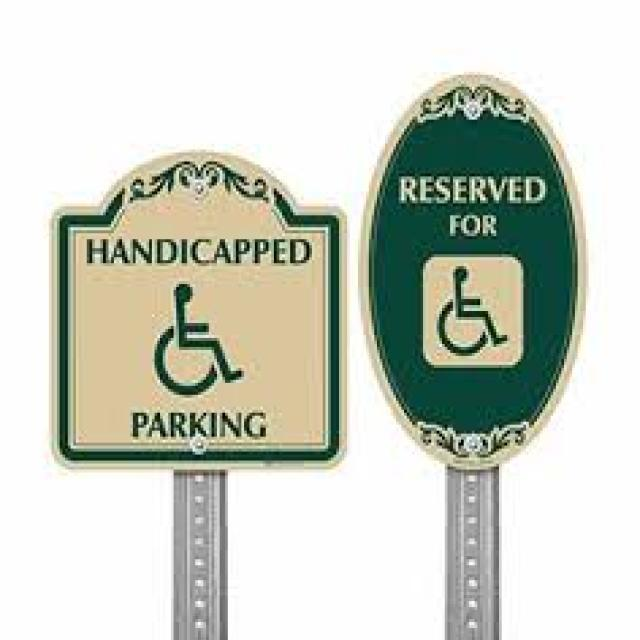symbol_of_access: (149, 281, 248, 398), (428, 262, 518, 364)
